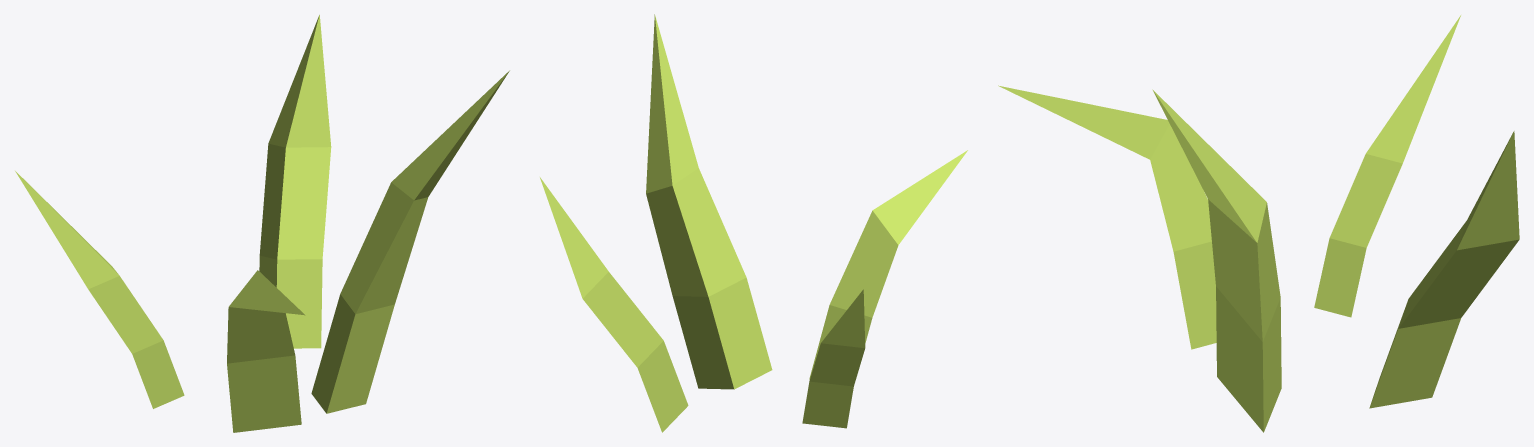
File: Grass_0.fbx
3 views of the same model, side by side, from view 1: azimuth 30°, elevation 25°; view 2: azimuth 150°, elevation 25°; view 3: azimuth 270°, elevation 25° (orthographic). The views are drawn at different scales.
Visible parts, largest first — view 1: Grass_0; view 2: Grass_0; view 3: Grass_0.
Part boxes in pixels (x1=…): Grass_0: x1=15, y1=15, x2=509, y2=432; Grass_0: x1=540, y1=14, x2=967, y2=432; Grass_0: x1=998, y1=15, x2=1519, y2=432.
Size of the model in its own units: 169 by 155 by 185.
